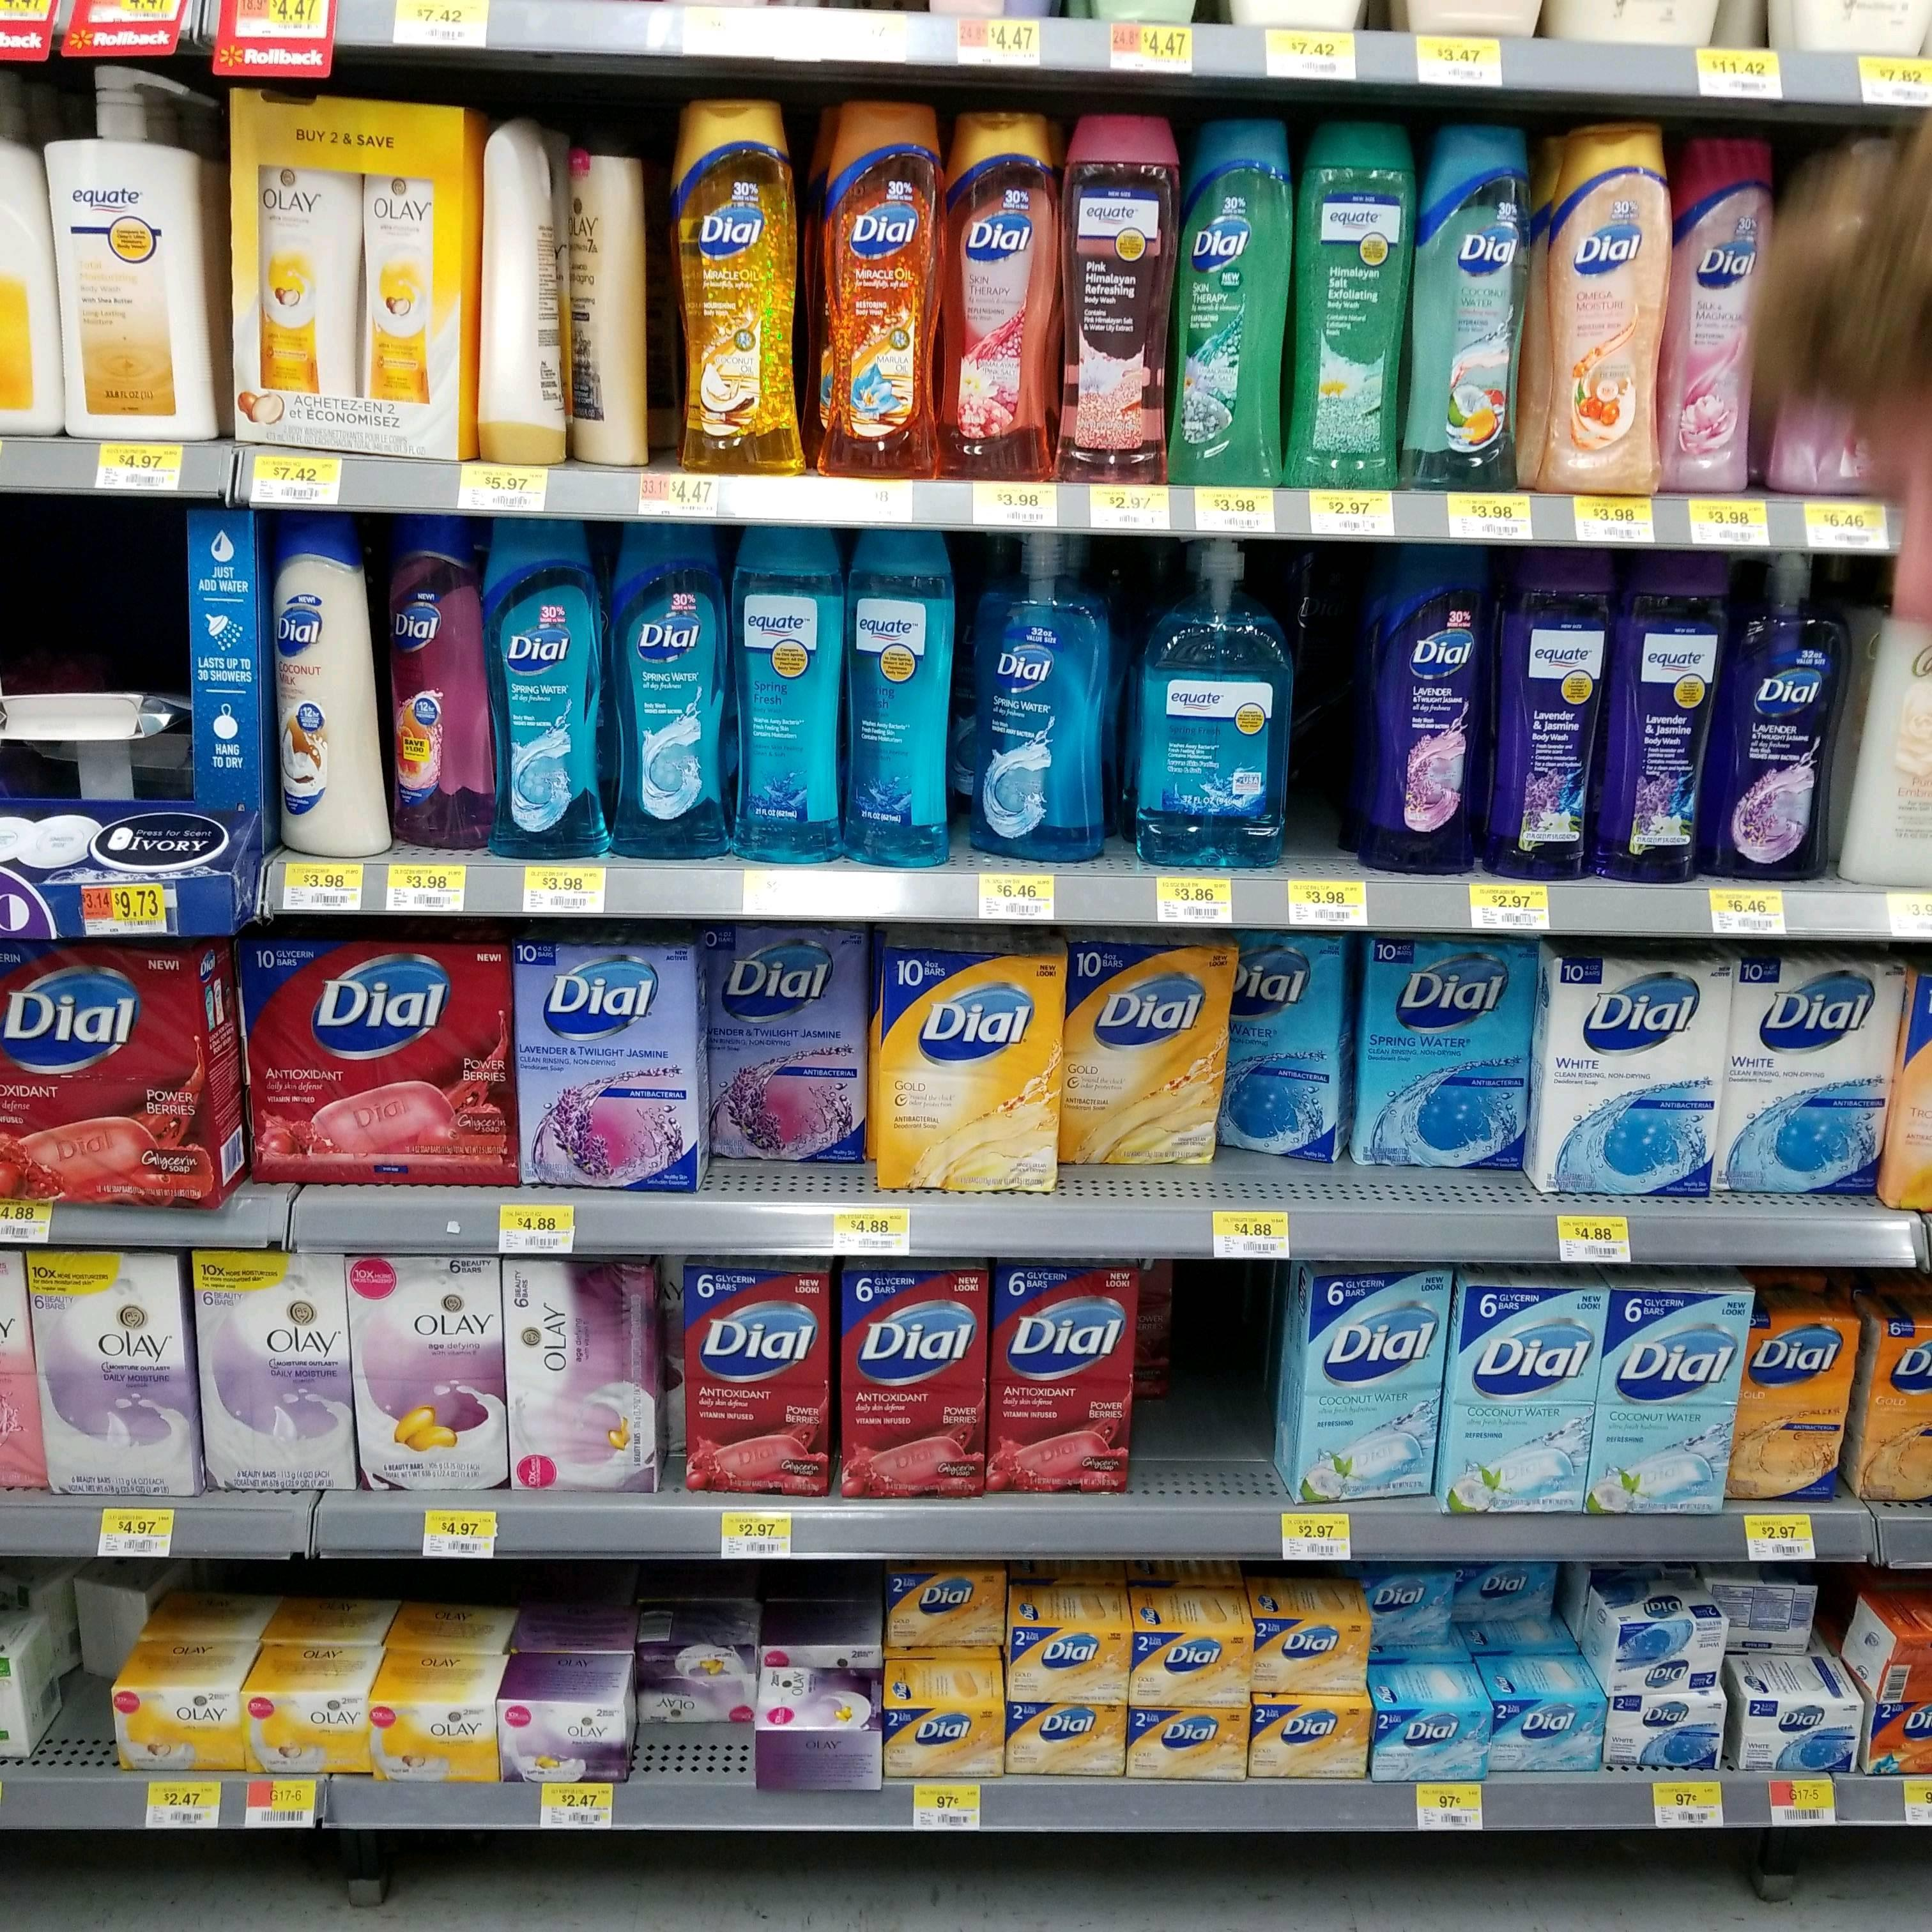misalignment: (379, 533, 501, 863), (566, 154, 655, 465), (0, 651, 191, 794), (483, 127, 563, 460), (1226, 929, 1339, 1161), (637, 1640, 752, 1734)
